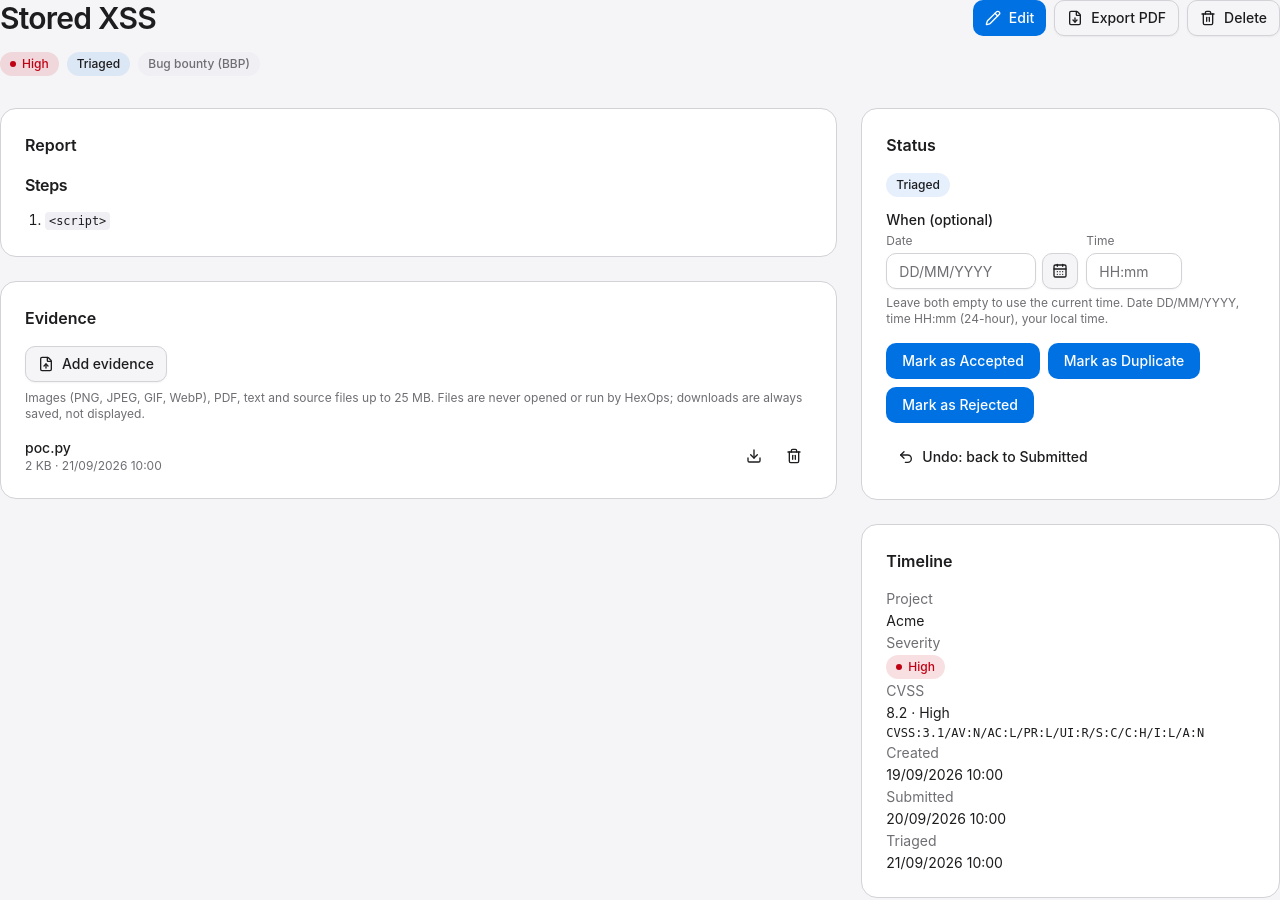
report detail › undo asks first and sends correction: true
Click the button "Undo: back to Submitted": [993, 457] box left=886, top=439, right=1100, bottom=475
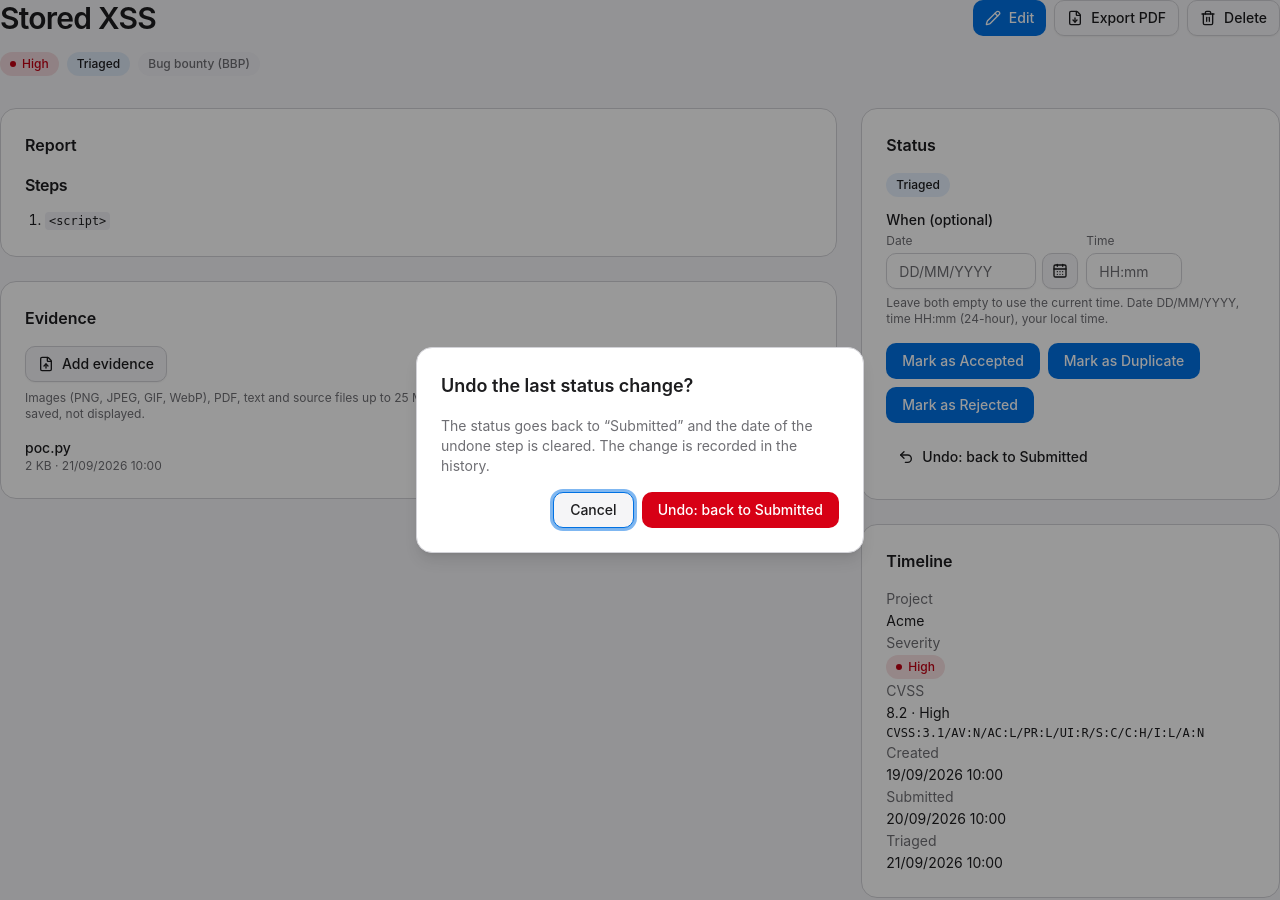
Click the button "Undo: back to Submitted": [740, 510] box left=642, top=492, right=839, bottom=528
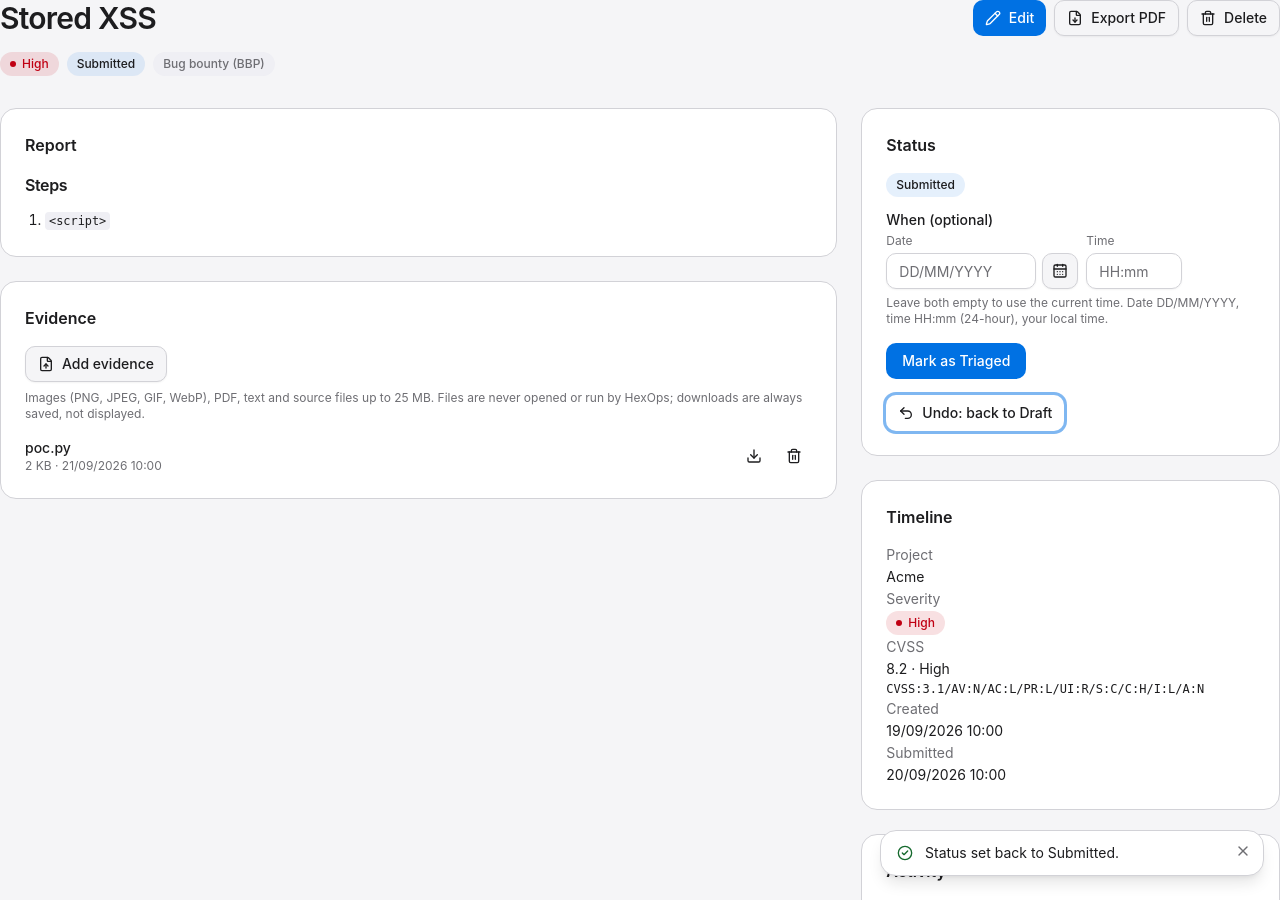
Expected: the text "Status set back to Submitted." is shown, left=925, top=844, right=1119, bottom=861
